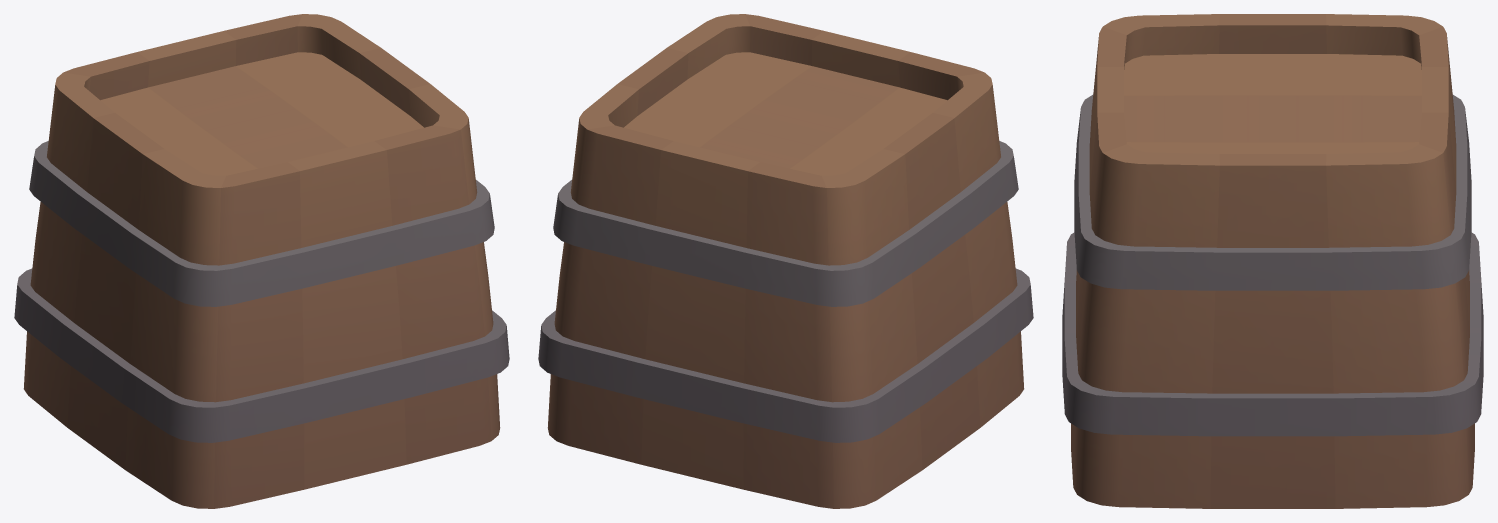
Rendered from archerTower_lvl2.fbx.
The picture shows the model from 3 angles, left to right: view 1: azimuth 30°, elevation 25°; view 2: azimuth 150°, elevation 25°; view 3: azimuth 270°, elevation 25°; orthographic projection. The views are drawn at different scales.
Visible parts, largest first — view 1: archerTower_lvl2; view 2: archerTower_lvl2; view 3: archerTower_lvl2.
Boxes of the visible parts, x1,y1,x2,y2 form: archerTower_lvl2: (14, 14, 509, 508); archerTower_lvl2: (538, 14, 1033, 508); archerTower_lvl2: (1062, 14, 1483, 508).
Size of the model in its own units: 154 by 132 by 152.
